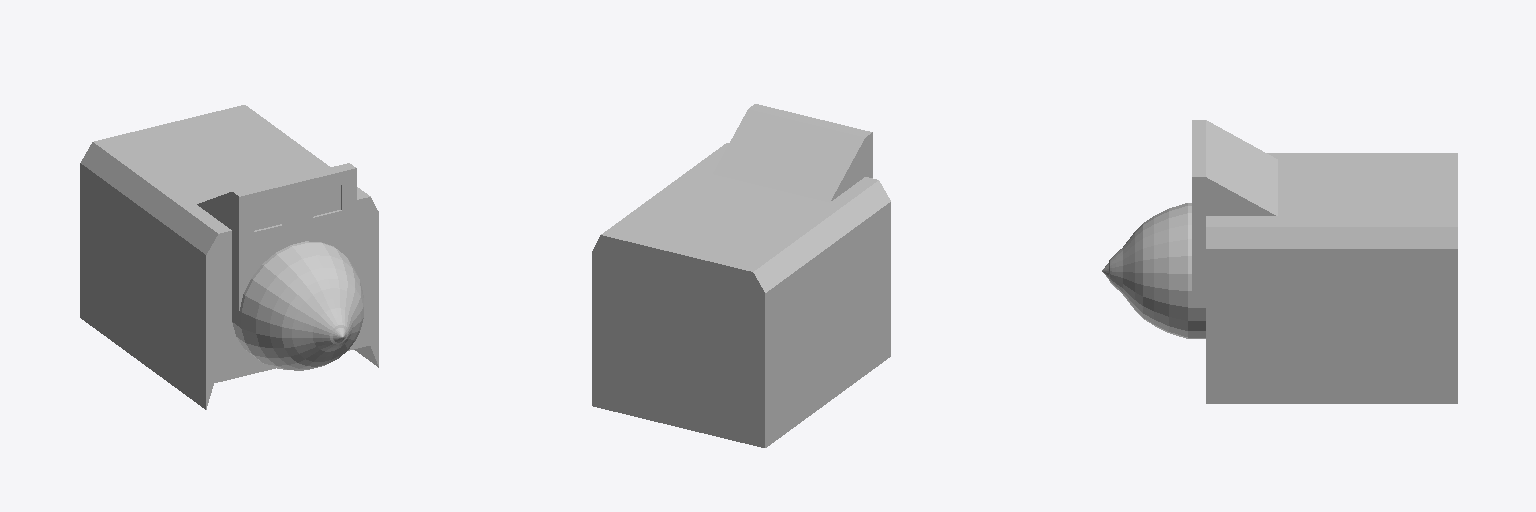
File: digger.obj
3 renders of one model, left to right at view 1: azimuth 30°, elevation 25°; view 2: azimuth 150°, elevation 25°; view 3: azimuth 270°, elevation 25°, orthographic.
Visible parts, largest first — view 1: Object.1; view 2: Object.1; view 3: Object.1.
Part boxes in pixels (x1,y1,x2,y2): Object.1: (80,105,378,409); Object.1: (592,104,890,447); Object.1: (1102,120,1457,403).
Bounding box in the file's own units: 2202 × 2585 × 3929.